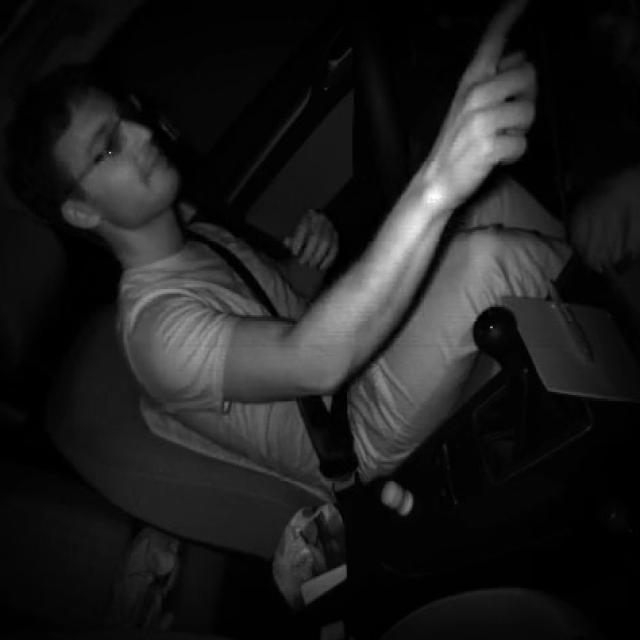pen: (542, 276, 596, 366)
